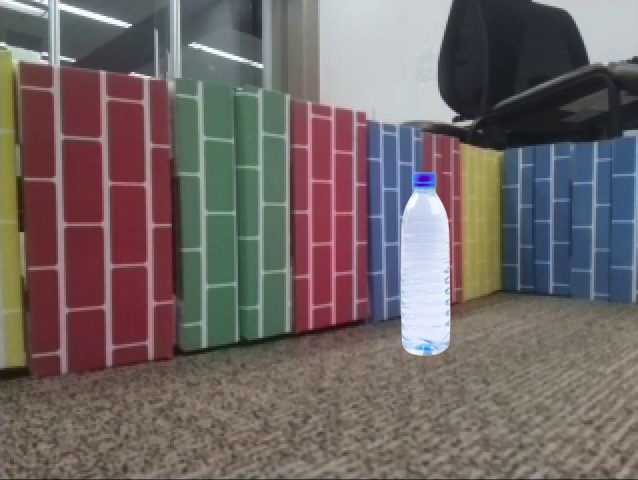cube: (490, 320, 614, 450)
